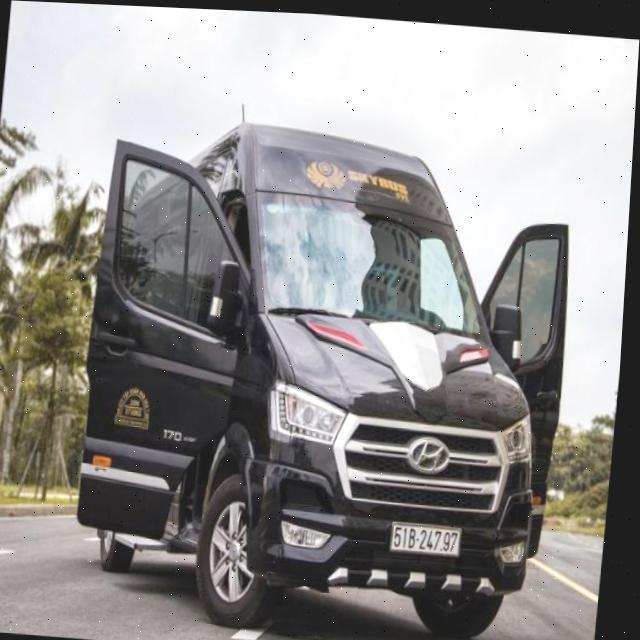car: (70, 46, 599, 640)
plate: (384, 518, 465, 560)
